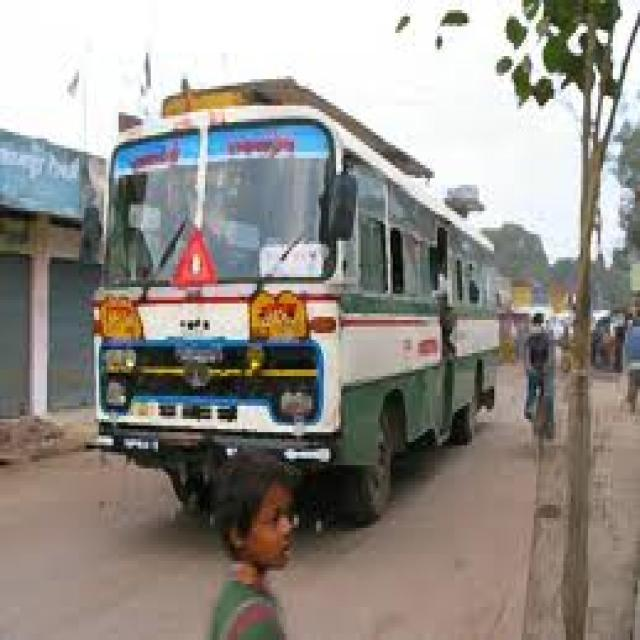bus_front: (87, 75, 509, 501)
